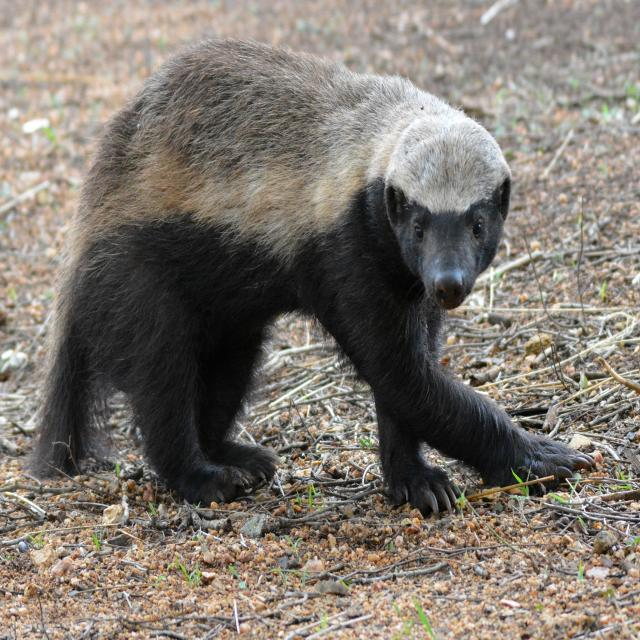Badger: (44, 39, 554, 505)
